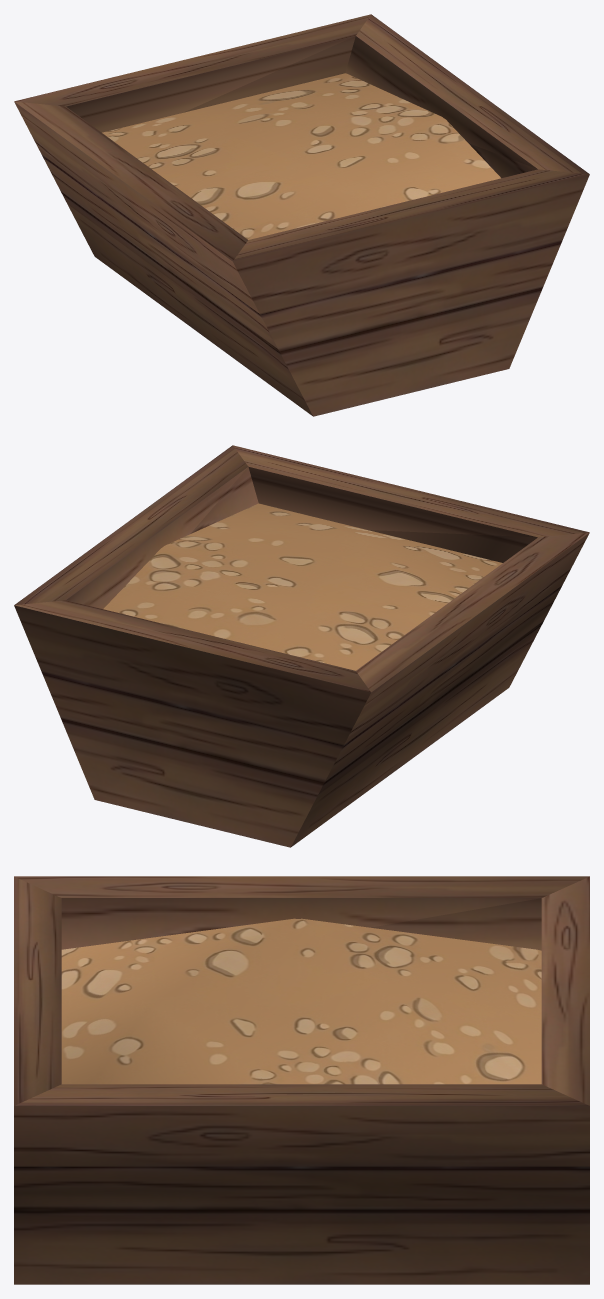
The model's file is ChickenFoodFull.glb.
The picture shows the model from 3 angles, top to bottom: view 1: azimuth 30°, elevation 25°; view 2: azimuth 150°, elevation 25°; view 3: azimuth 270°, elevation 25°; orthographic projection. The views are drawn at different scales.
Visible parts, largest first — view 1: ChickenFoodFull; view 2: ChickenFoodFull; view 3: ChickenFoodFull.
Part boxes in pixels (x1=…): ChickenFoodFull: x1=14, y1=14, x2=589, y2=416; ChickenFoodFull: x1=14, y1=445, x2=589, y2=847; ChickenFoodFull: x1=14, y1=876, x2=589, y2=1284.
Bounding box in the file's own units: 1.32 × 0.6196 × 1.4.
Materials: 1 (1 with a texture image).
